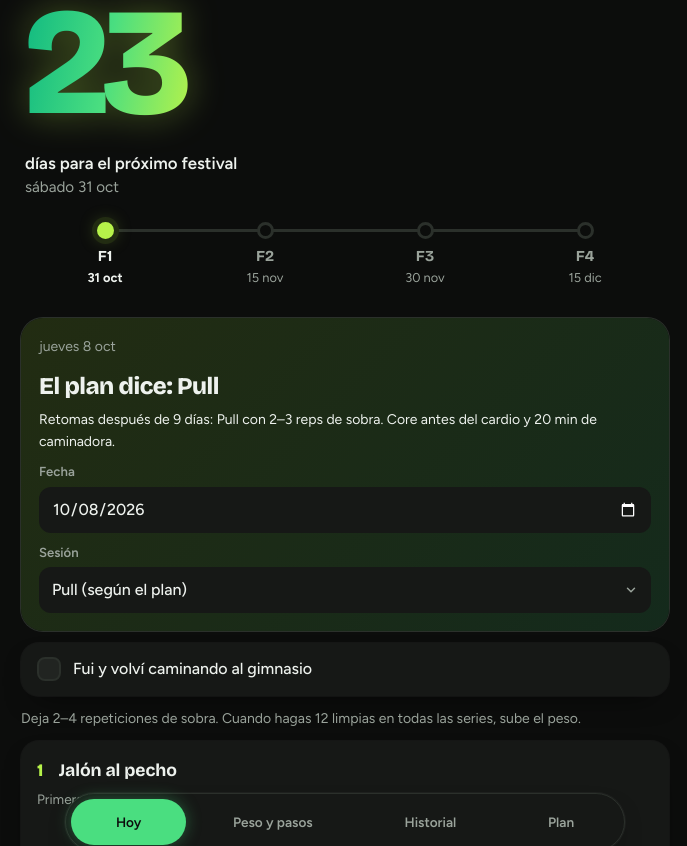
Test case: App › adds and removes sets
Select "Push" in the dropdown labelled "Sesión" at (345, 590), box [39,567,651,613]
(page scrolled)
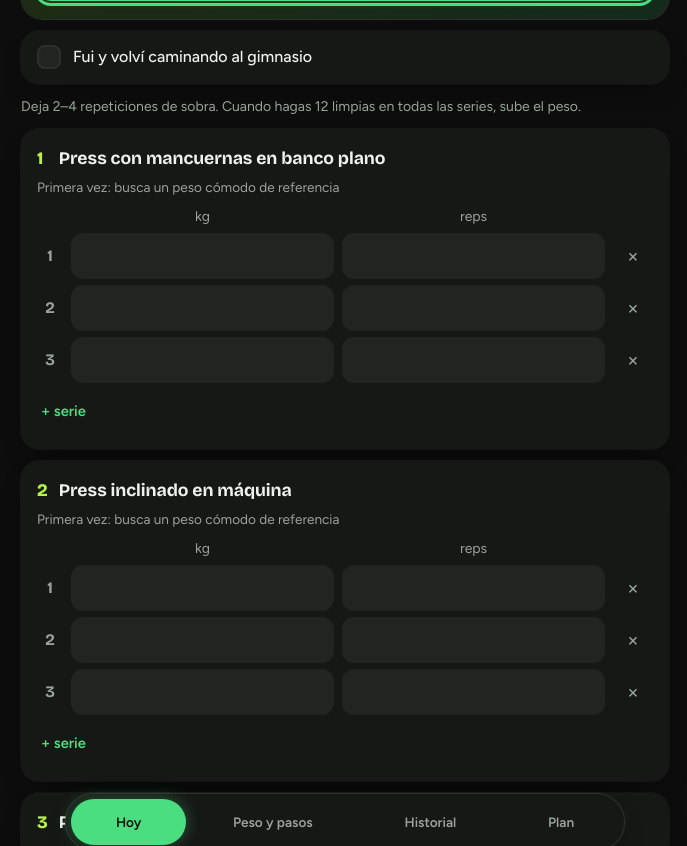
Click the button "+ serie" below "Press con mancuernas en banco plano" at (63, 411), box [37,389,90,433]
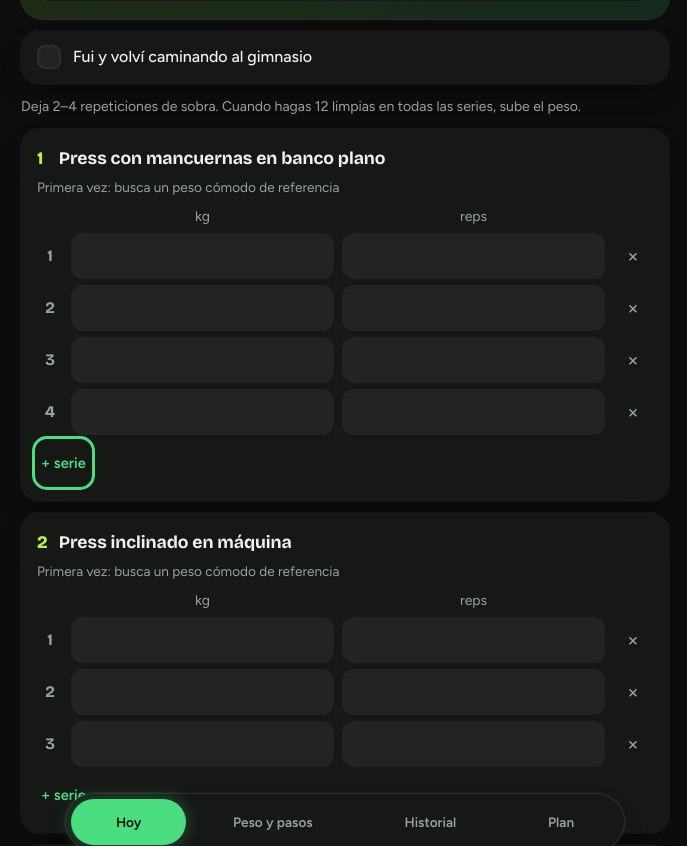
Result: the number of fields named "kg serie" is 16
Click the button named "Quitar serie" at (633, 256), box [613,236,653,276]
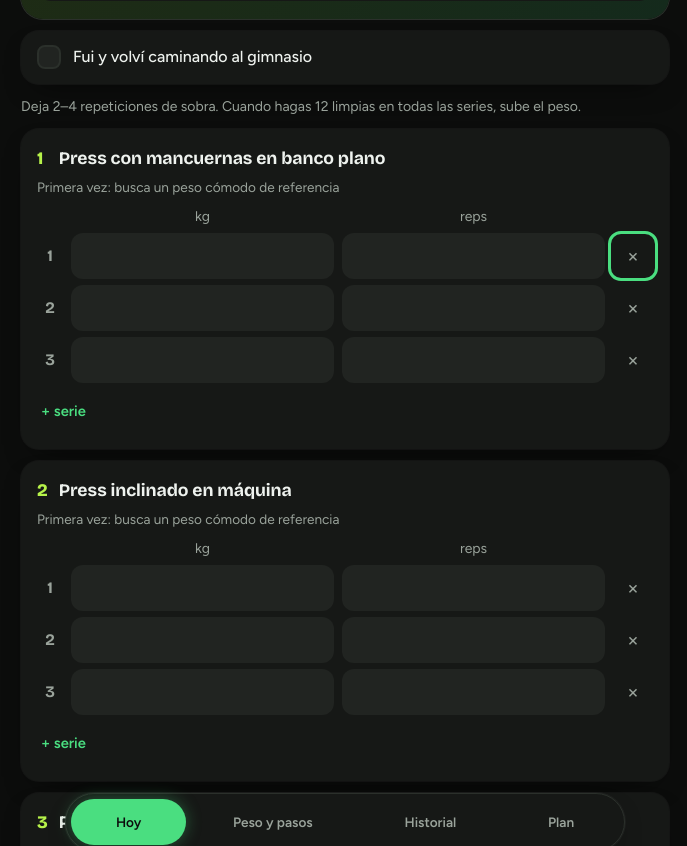
Result: the number of fields named "kg serie" is 15
